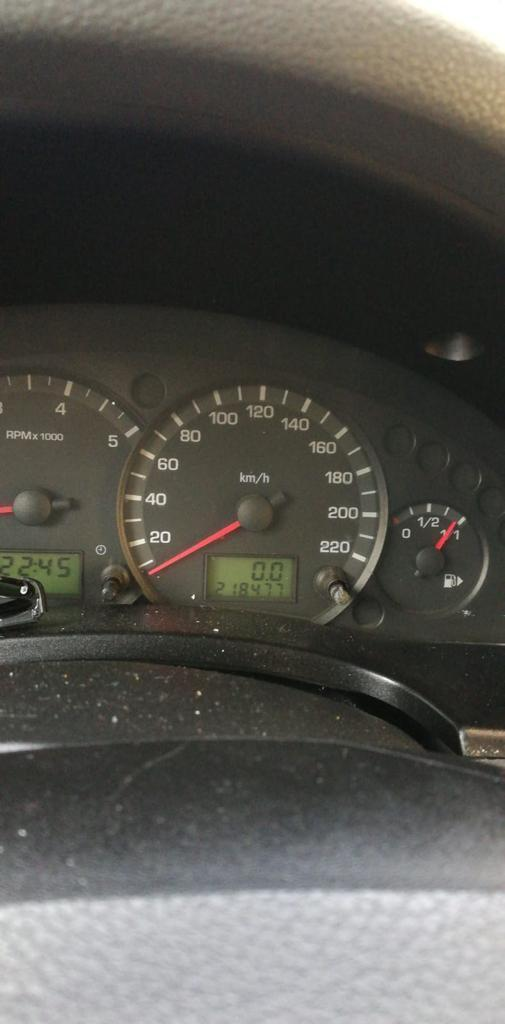,: (264, 576, 269, 582)
0: (250, 560, 265, 581), (269, 560, 283, 582)
1: (230, 582, 237, 596)
2: (213, 580, 225, 596)
4: (250, 582, 261, 596)
7: (273, 582, 285, 596), (263, 581, 272, 596)
8: (238, 582, 249, 596)
odometer: (203, 554, 297, 602)
